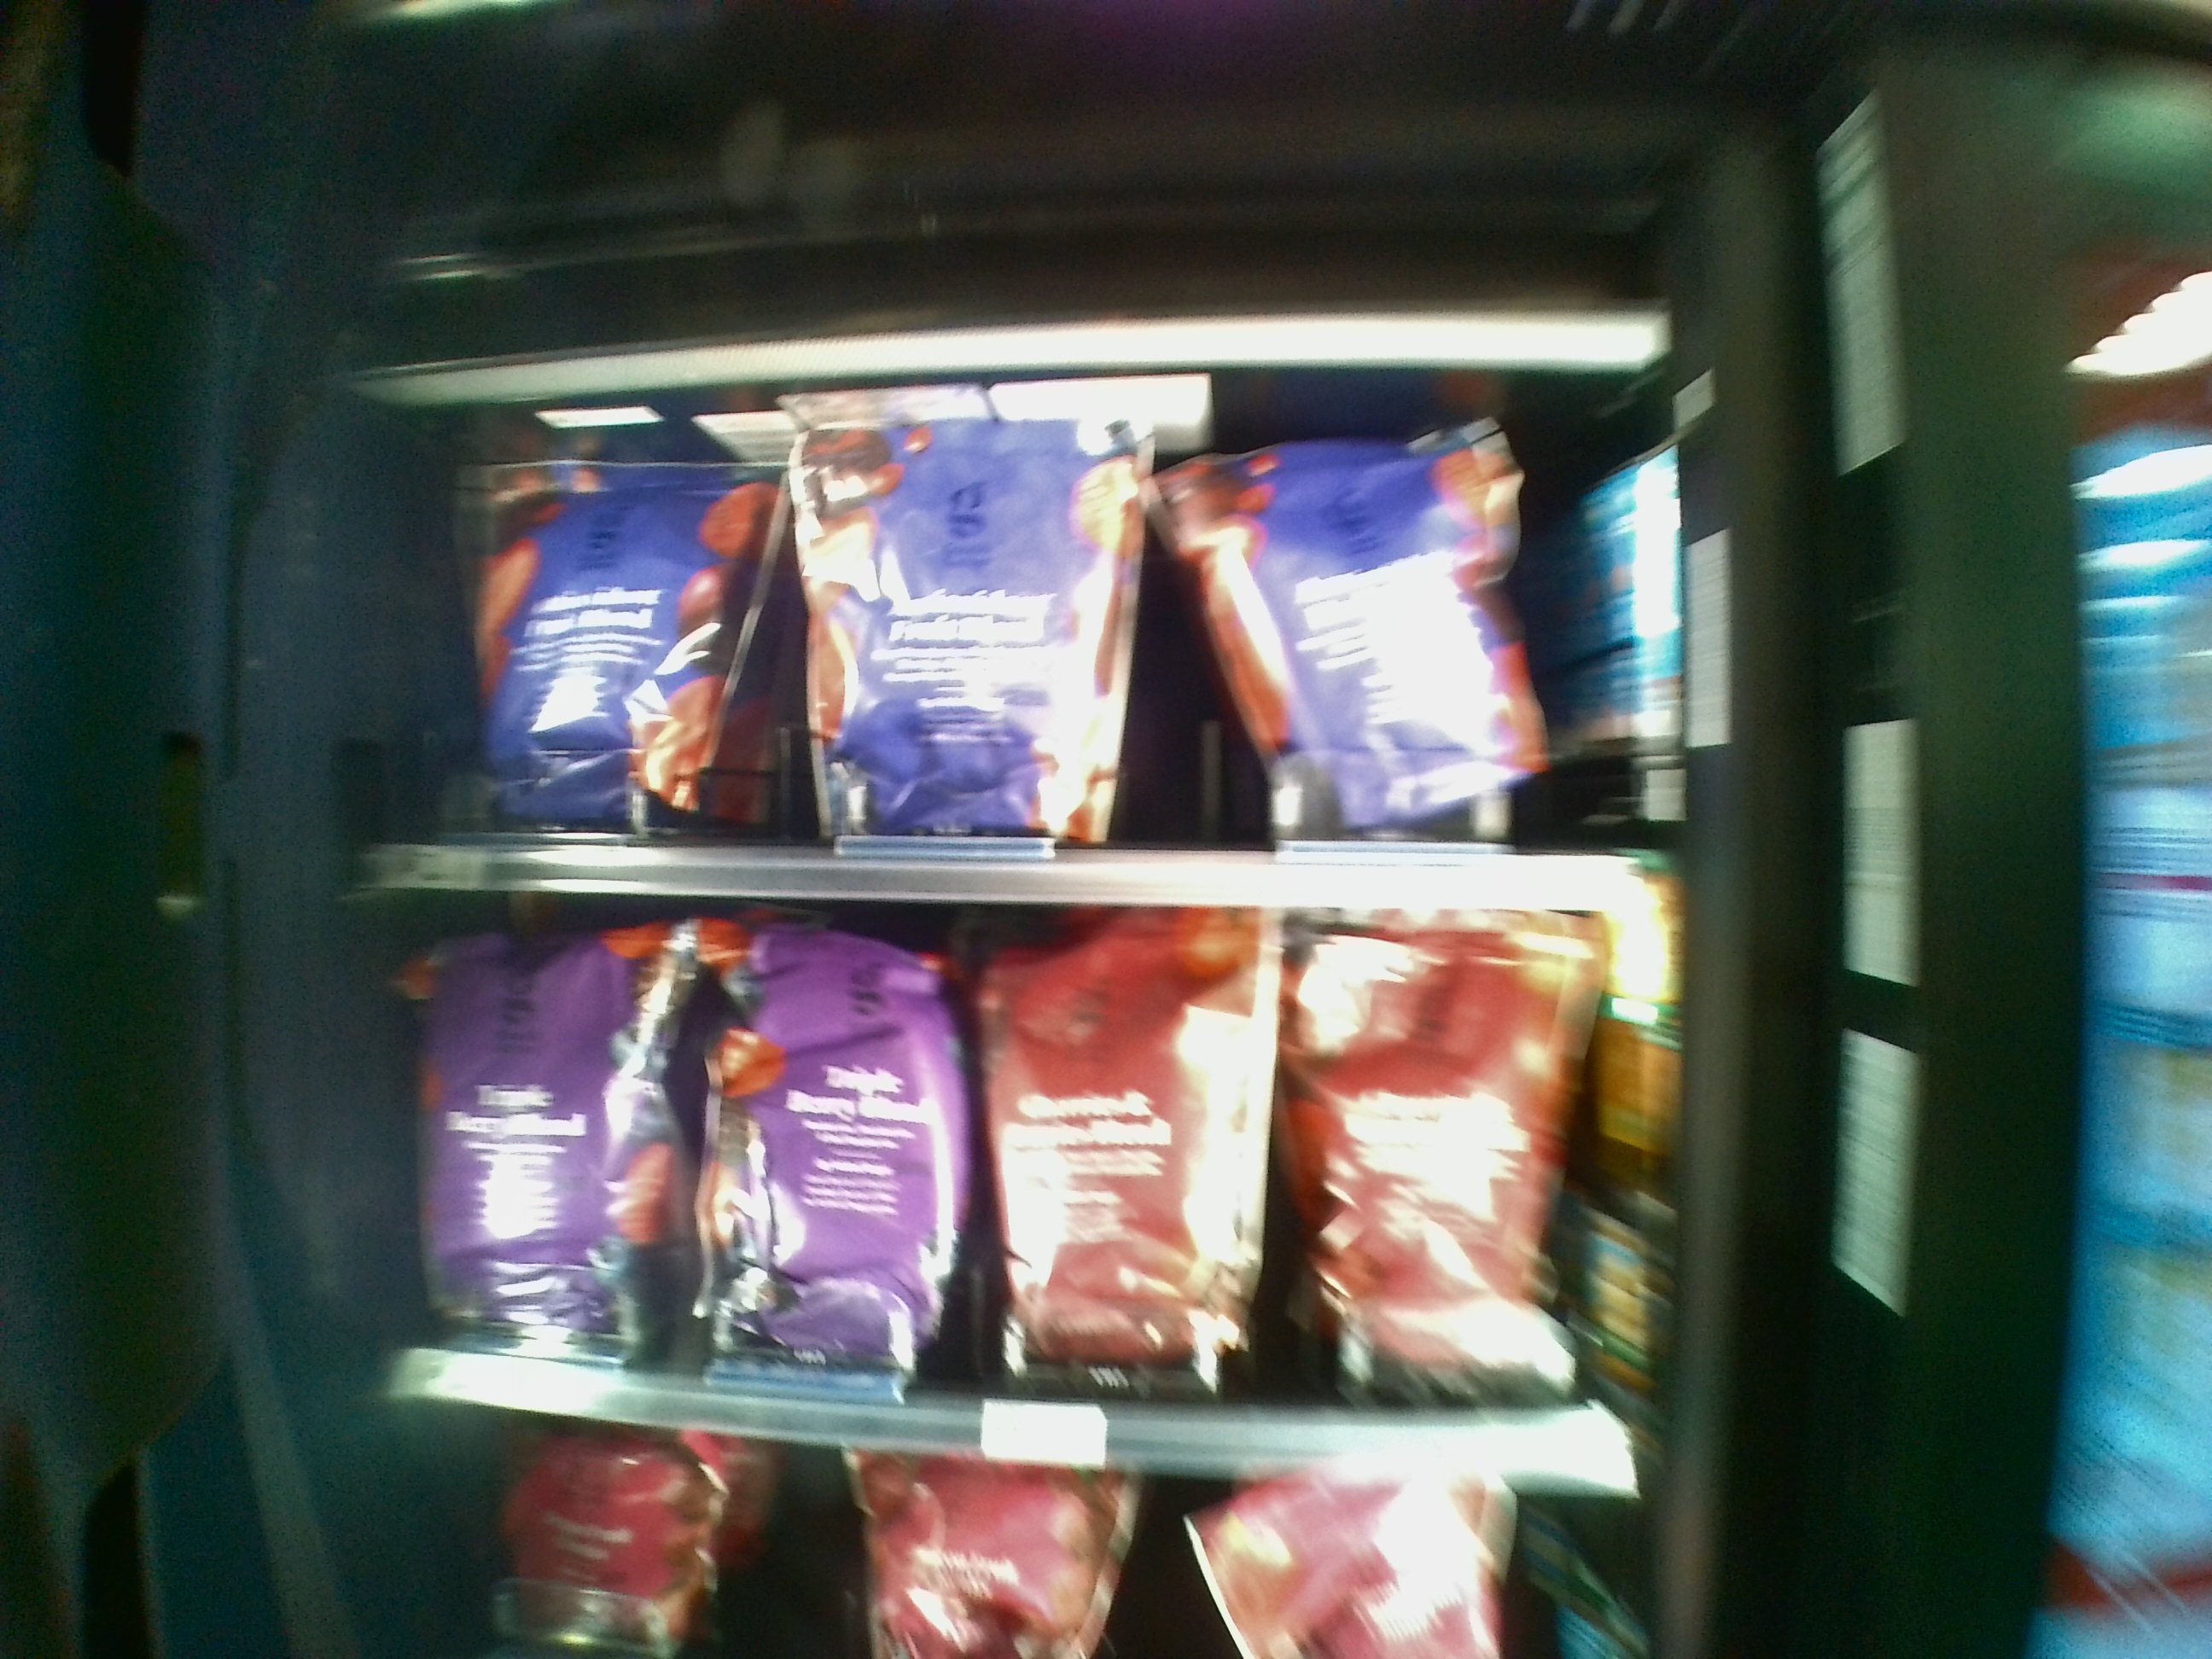shelf: (380, 899, 1641, 1497), (366, 385, 1651, 915)
